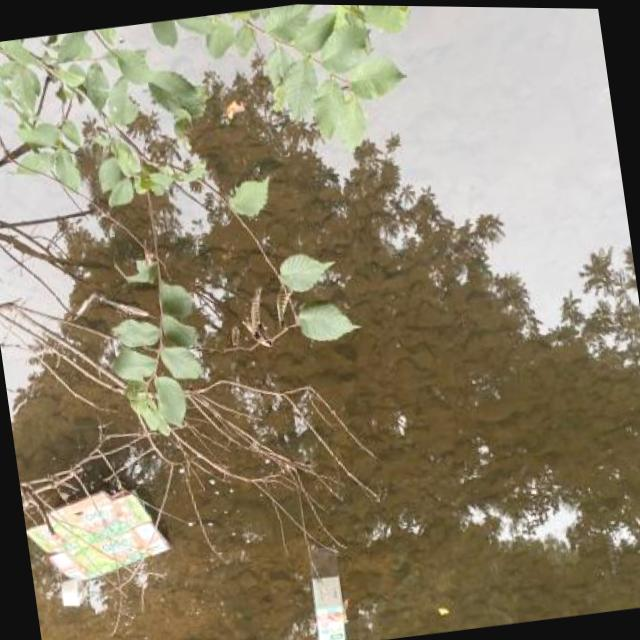Cardboard: (22, 477, 178, 590), (305, 567, 355, 640)
Paper: (57, 577, 82, 613)
